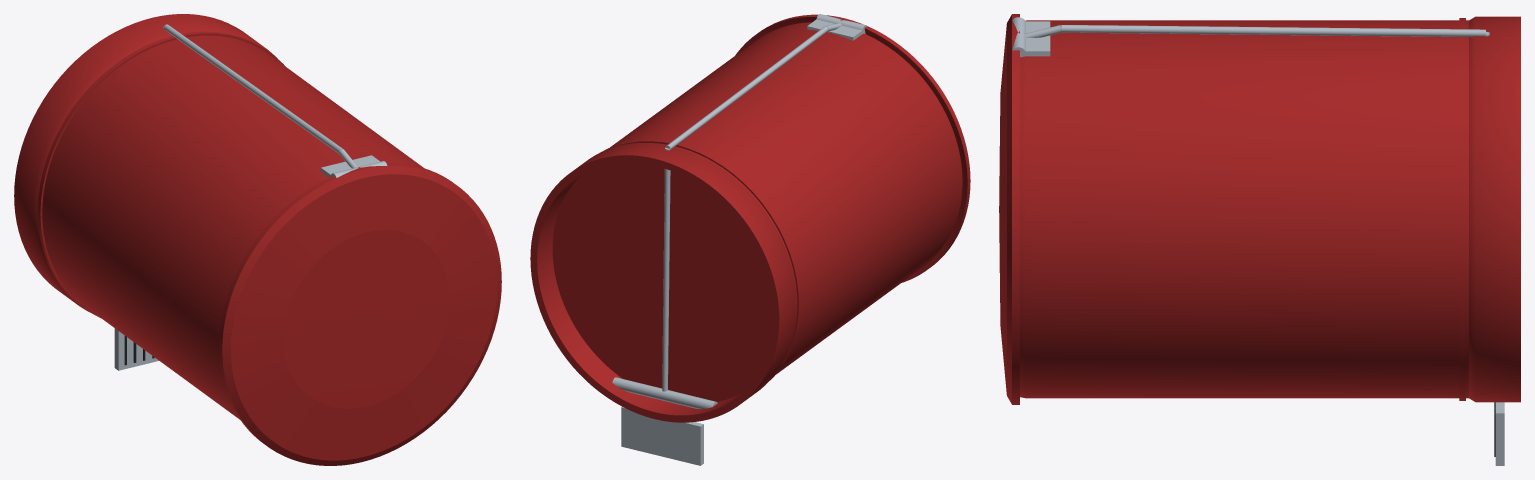
File: prepared_oily_waste_can.glb
The picture shows the model from 3 angles, left to right: view 1: azimuth 30°, elevation 25°; view 2: azimuth 150°, elevation 25°; view 3: azimuth 270°, elevation 25°; orthographic projection. The views are drawn at different scales.
Parts seen in each view (by area): view 1: steel_body, lid, ventilated_base, rolled_bottom_seam, rear_linkage_1, foot_pedal; view 2: steel_body, ventilated_base, foot_pedal, lid, rolled_bottom_seam, rear_linkage_0, rear_linkage_1, pedal_pivot, hinge_mount; view 3: steel_body, ventilated_base, lid, rear_linkage_1, rolled_bottom_seam, hinge_mount, foot_pedal.
Boxes of the visible parts, bbox=[...] form: steel_body: bbox=[42, 35, 424, 419]; lid: bbox=[219, 163, 501, 465]; ventilated_base: bbox=[14, 14, 277, 311]; rolled_bottom_seam: bbox=[37, 31, 285, 317]; rear_linkage_1: bbox=[163, 24, 343, 153]; foot_pedal: bbox=[114, 328, 158, 370]; steel_body: bbox=[552, 22, 962, 401]; ventilated_base: bbox=[530, 143, 796, 422]; foot_pedal: bbox=[621, 406, 703, 465]; lid: bbox=[735, 14, 970, 282]; rolled_bottom_seam: bbox=[604, 139, 801, 380]; rear_linkage_0: bbox=[662, 147, 670, 391]; rear_linkage_1: bbox=[665, 26, 828, 148]; pedal_pivot: bbox=[612, 377, 717, 409]; hinge_mount: bbox=[807, 19, 865, 40]; steel_body: bbox=[1020, 20, 1468, 398]; ventilated_base: bbox=[1469, 16, 1520, 402]; lid: bbox=[999, 14, 1019, 404]; rear_linkage_1: bbox=[1061, 25, 1485, 36]; rolled_bottom_seam: bbox=[1459, 18, 1465, 400]; hinge_mount: bbox=[1020, 21, 1050, 57]; foot_pedal: bbox=[1495, 402, 1504, 465].
Bounding box in the file's own units: 0.302 × 0.3535 × 0.403.
